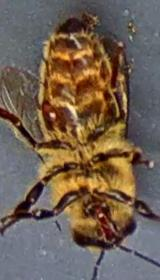varroa_mite: (32, 96, 64, 132)
